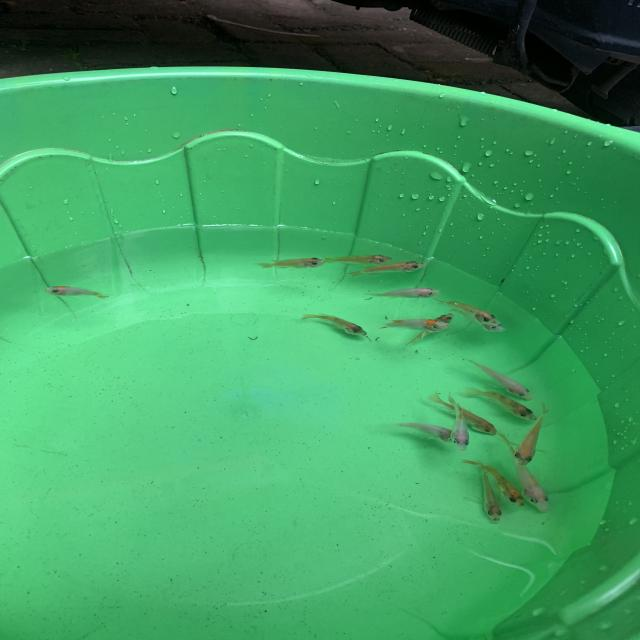nila: (500, 431, 557, 516), (464, 452, 528, 510), (461, 354, 538, 402), (377, 413, 469, 450), (430, 392, 506, 435), (470, 456, 514, 527), (460, 384, 539, 422), (514, 401, 553, 470), (399, 312, 460, 352), (441, 393, 476, 454), (436, 296, 504, 326), (297, 313, 369, 339), (348, 260, 430, 281), (450, 306, 510, 334), (376, 316, 455, 336), (245, 255, 332, 273), (361, 286, 444, 304), (38, 284, 114, 303), (317, 252, 396, 264)
